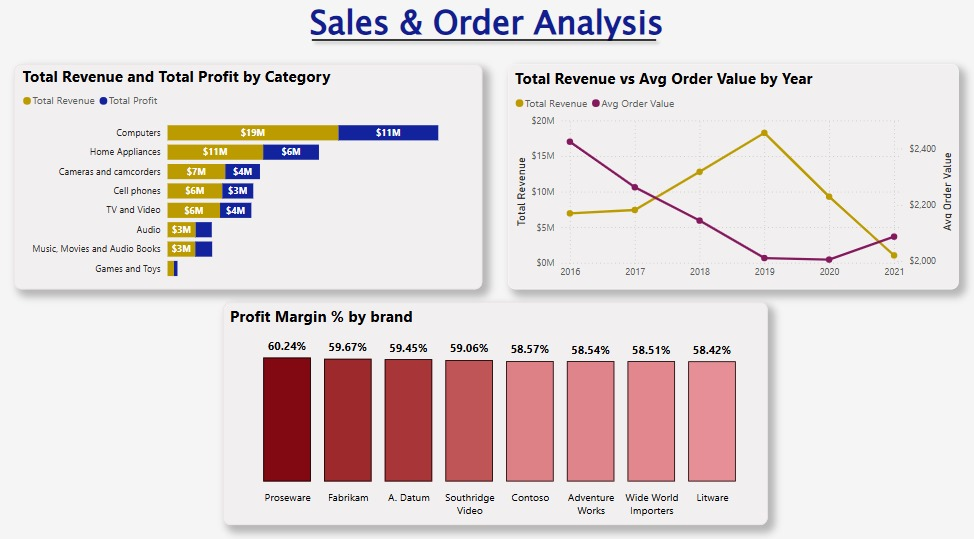

The page's visual inventory and layout, read from the dashboard file:
{"tool":"powerbi","page":{"name":"Page 2","canvas":[1280,720],"ordinal":1},"visuals":[{"type":"textbox","box":[10.5,0,1256,77.8],"z":0},{"type":"barChart","fields":{"Y":["public customers.Total Revenue","public customers.Total Profit"],"Category":["public products.category"]},"box":[19.6,91.6,612.7,294.5],"z":1000},{"type":"lineChart","fields":{"Category":["public sales.order_date.Variation.Date Hierarchy.Year","public sales.order_date.Variation.Date Hierarchy.Month"],"Y":["public customers.Total Revenue"],"Y2":["public customers.Avg Order Value"]},"box":[666.3,91.6,590.4,294.5],"z":2000},{"type":"shape","box":[400.6,0,468.7,120.4],"z":3000},{"type":"clusteredColumnChart","fields":{"Category":["public products.brand"],"Y":["public customers.Profit Margin %"]},"box":[293.2,403.2,713.5,291.9],"z":4000}]}

Visuals, with their boxes in screenshot pixels (x1, y1, x2, y2), scaled from the page's 1280x720 canvas onto the 974x539 screenshot:
textbox: [8,0,964,58]
barChart - public customers.Total Revenue x public customers.Total Profit: [15,69,481,289]
lineChart - public sales.order_date.Variation.Date Hierarchy.Year x public sales.order_date.Variation.Date Hierarchy.Month: [507,69,956,289]
shape: [305,0,661,90]
clusteredColumnChart - public products.brand x public customers.Profit Margin %: [223,302,766,520]
